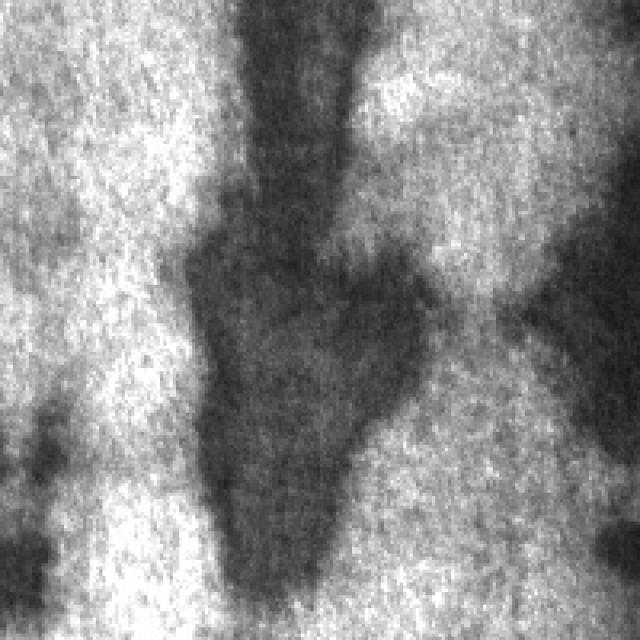patches: (182, 0, 445, 602), (512, 131, 640, 464)
